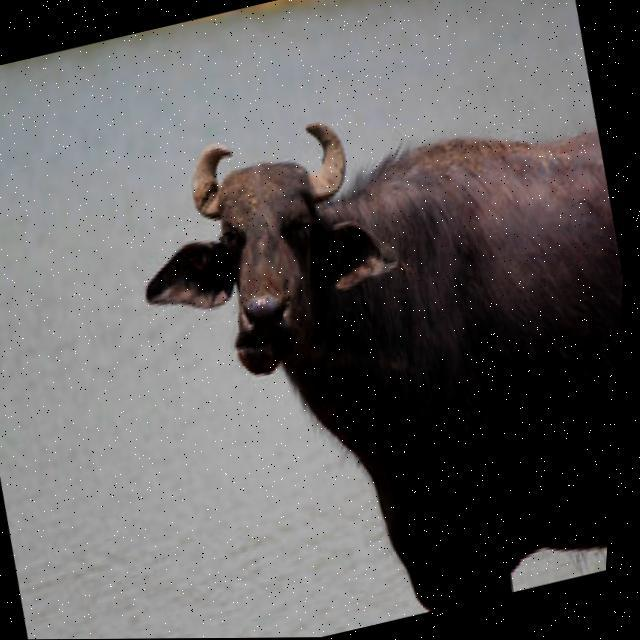Buffalo: (88, 47, 637, 639)
